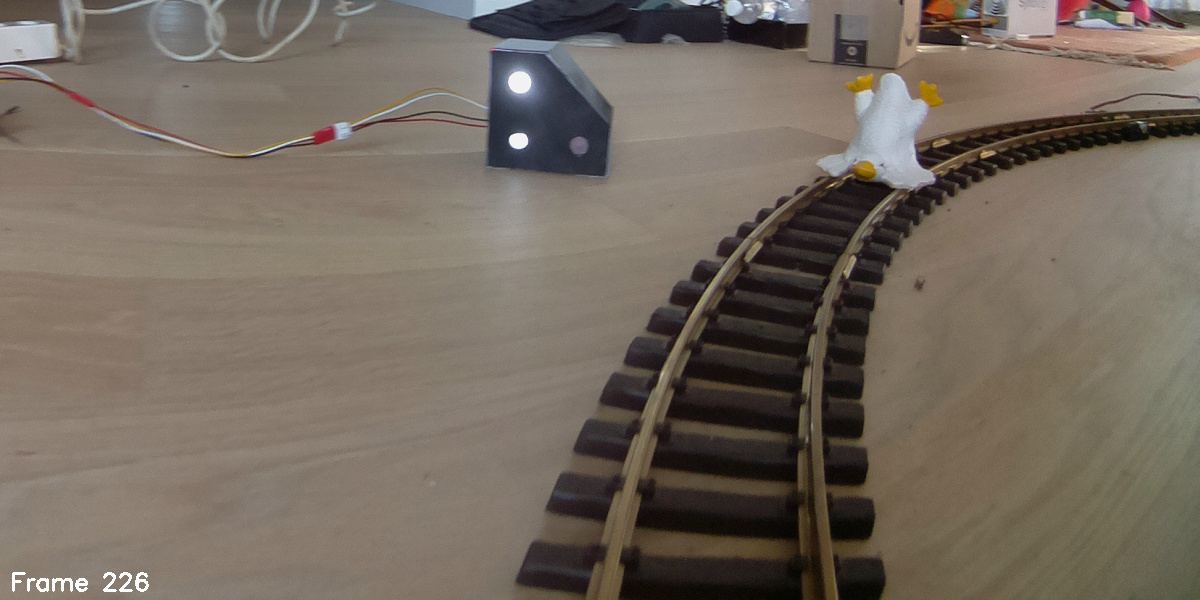Ente: (811, 71, 942, 196)
Fahrt: (483, 41, 613, 177)
